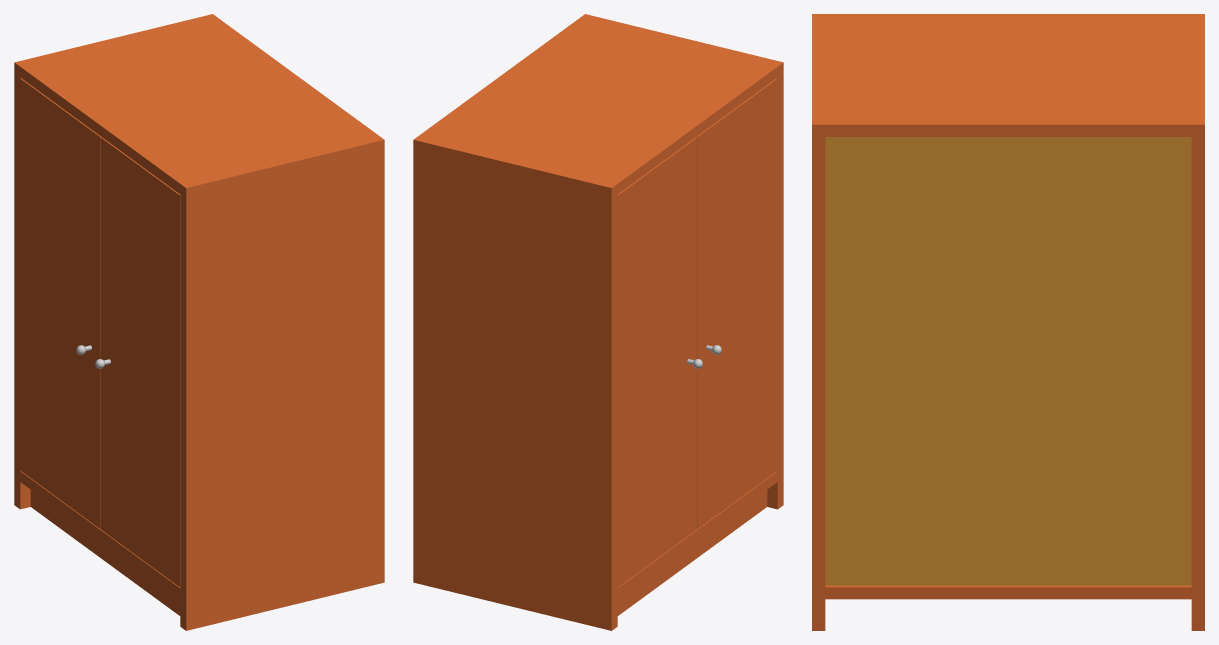
The model's file is Wardrobe_01.fbx.
The picture shows the model from 3 angles, left to right: view 1: azimuth 30°, elevation 25°; view 2: azimuth 150°, elevation 25°; view 3: azimuth 270°, elevation 25°; orthographic projection. The views are drawn at different scales.
Visible parts, largest first — view 1: Cube, Cube.001, Cube.003; view 2: Cube, Cube.003, Cube.001; view 3: Cube.002, Cube.
Part boxes in pixels (box(x1,y1,x2,y2)): Cube: box(14, 14, 384, 630); Cube.001: box(19, 78, 100, 528); Cube.003: box(100, 137, 180, 587); Cube: box(413, 14, 783, 630); Cube.003: box(697, 78, 778, 528); Cube.001: box(617, 137, 697, 587); Cube.002: box(825, 137, 1191, 585); Cube: box(812, 14, 1204, 630).
Size of the model in its own units: 107 by 213 by 150.
